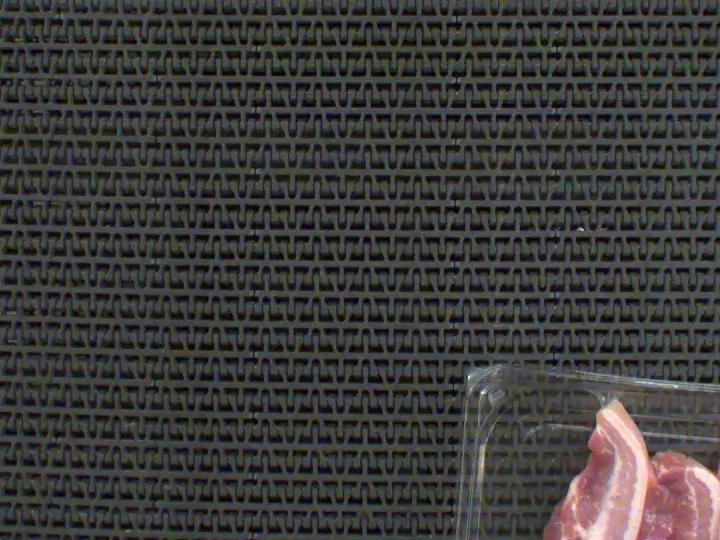packaging-error: (594, 382, 620, 407)
